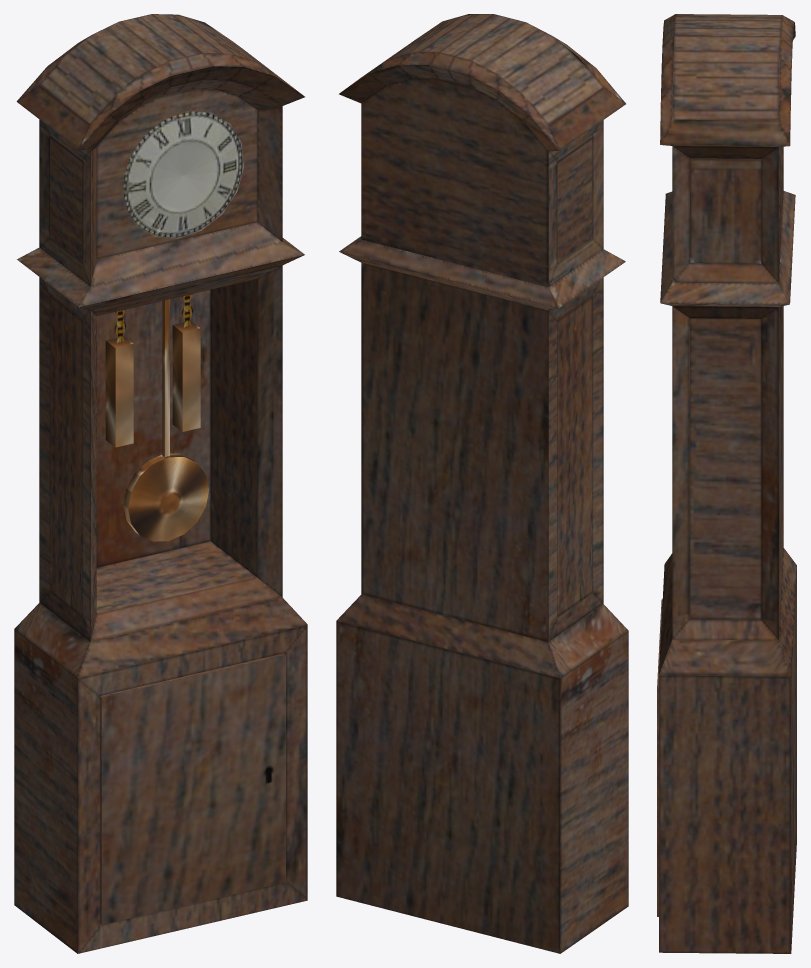
The model's file is Reloj.obj.
3 views of the same model, side by side, from view 1: azimuth 30°, elevation 25°; view 2: azimuth 150°, elevation 25°; view 3: azimuth 270°, elevation 25° (orthographic).
Parts seen in each view (by area): view 1: Reloj:pendulum_clocktexture1; view 2: Reloj:pendulum_clocktexture1; view 3: Reloj:pendulum_clocktexture1.
Part boxes in pixels (x1,y1,x2,y2): Reloj:pendulum_clocktexture1: [14, 14, 307, 953]; Reloj:pendulum_clocktexture1: [336, 14, 628, 953]; Reloj:pendulum_clocktexture1: [657, 14, 796, 953].
Size of the model in its own units: 4.9 by 17.64 by 2.57.
1 material, 1 textured.
